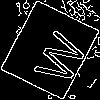W: (25, 25, 89, 88)
